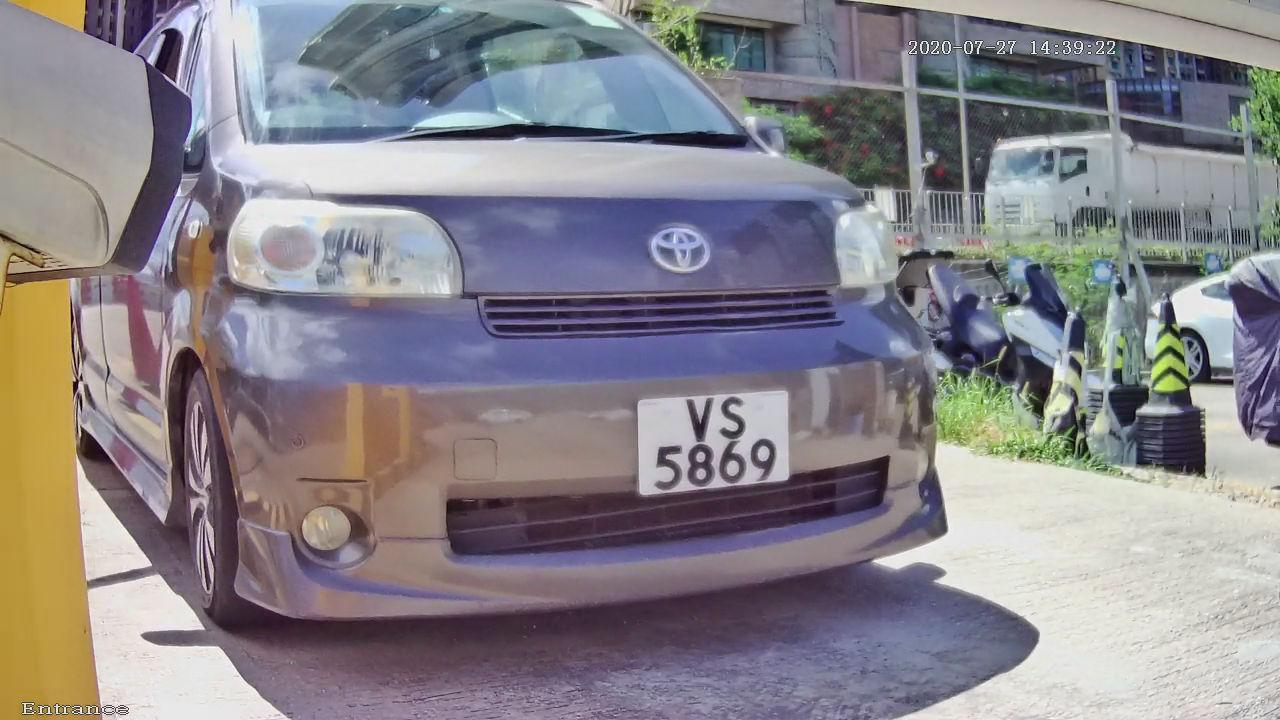privatecar: (80, 23, 1035, 659)
